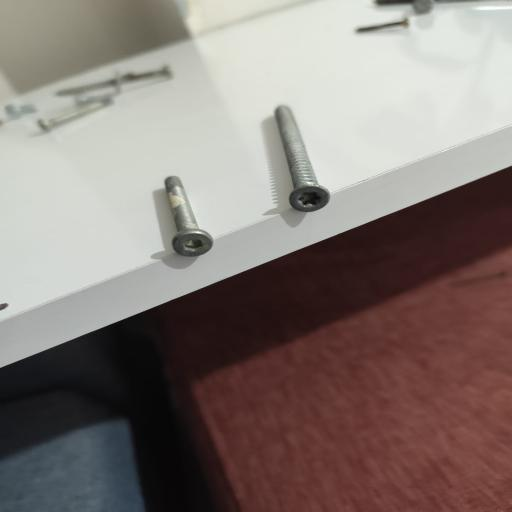Hex-Allen: (173, 224, 214, 260)
Torx: (288, 181, 333, 215)
